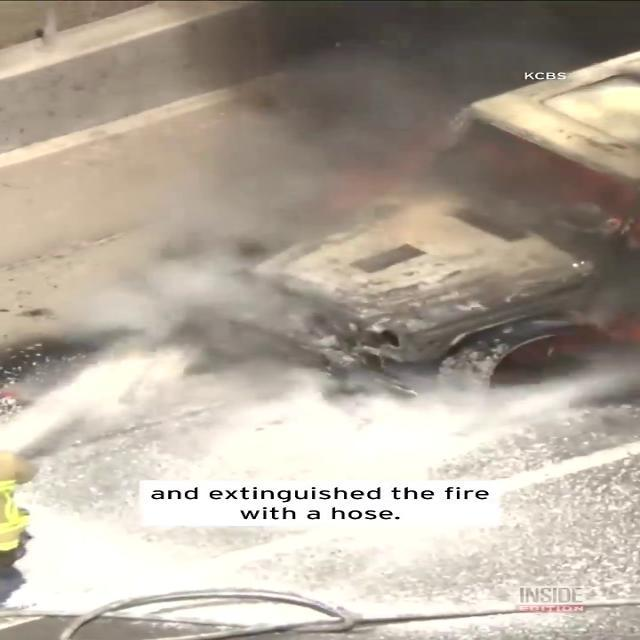Smoke: (4, 1, 618, 407)
